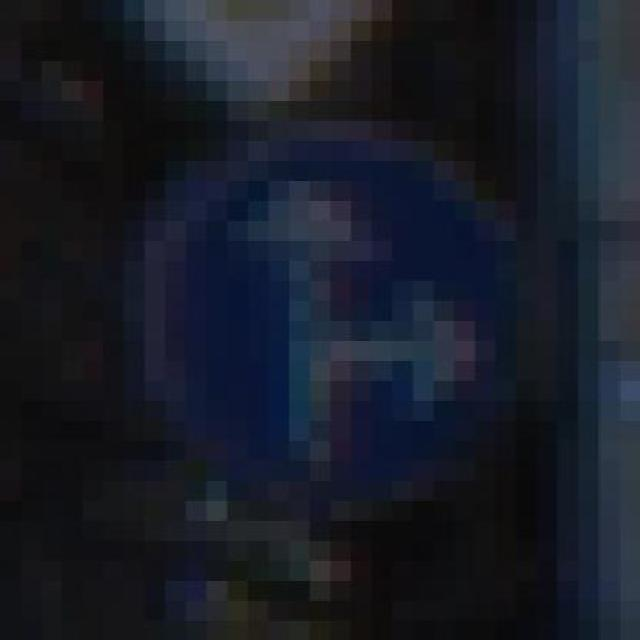Go Straight or Turn Right: (82, 80, 558, 540)
